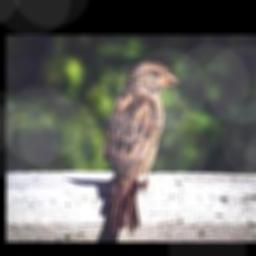Sparrow: (103, 60, 178, 233)
